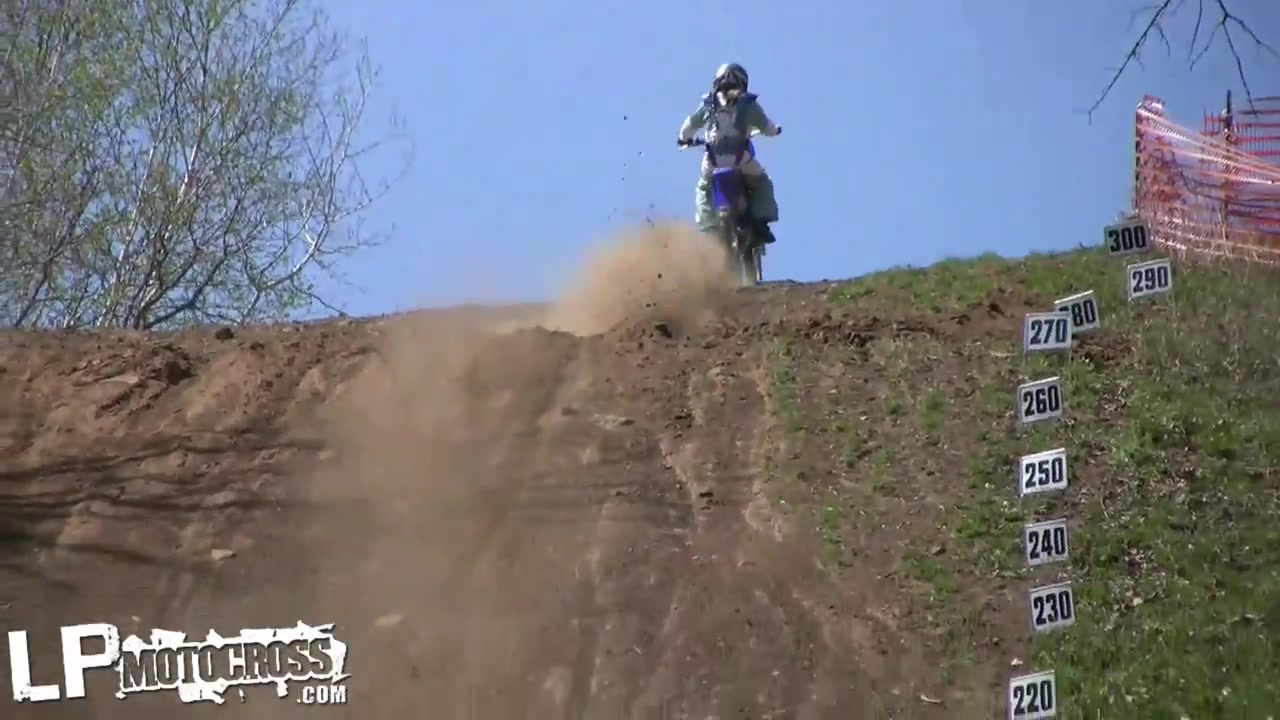motorbike: (677, 124, 790, 287)
